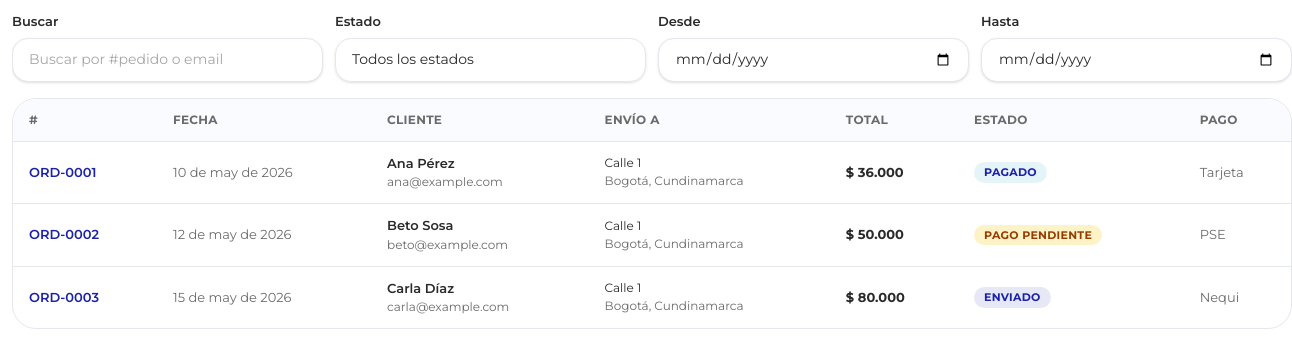
Scenario: OrdersTable › filtra por search (orderId o email)
Type "beto" into the field with placeholder "Buscar por #pedido o email" at (168, 60), box [29,49,306,70]
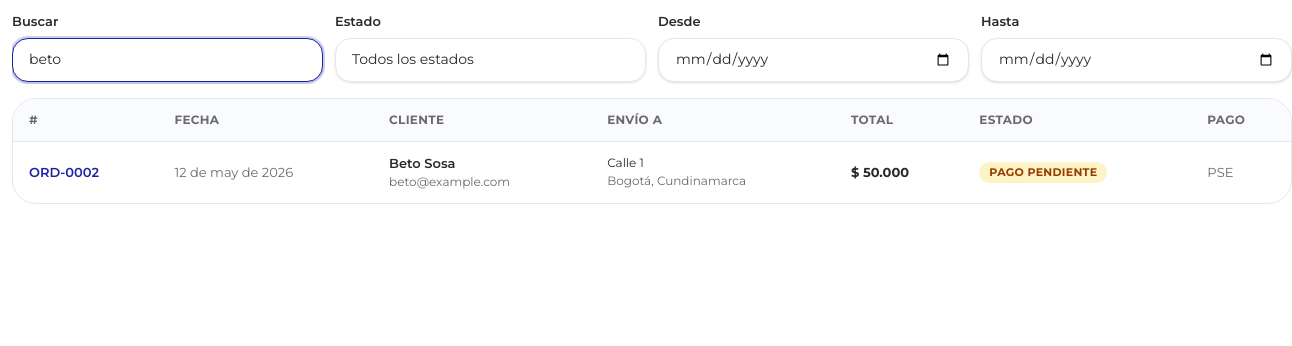
Expected: the text "ORD-0002" is shown, [13,141,158,203]
Expected: the text "ORD-0001" is gone
Expected: the text "ORD-0003" is gone
